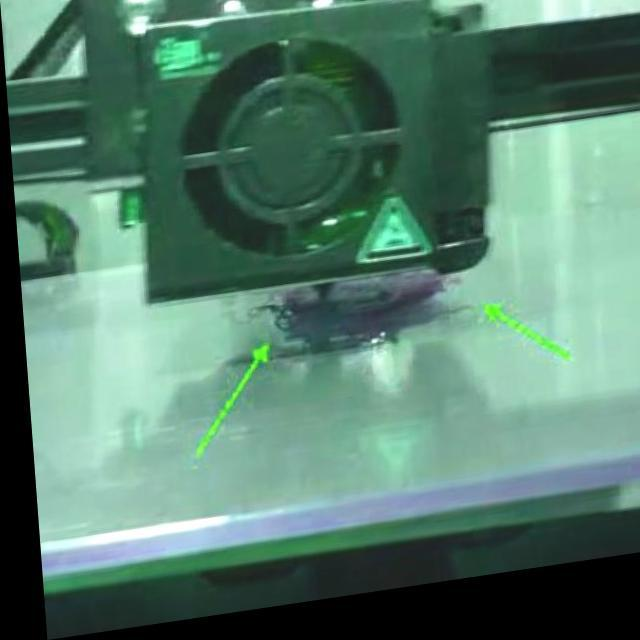spaghetti: (242, 304, 288, 347), (432, 314, 469, 331)
